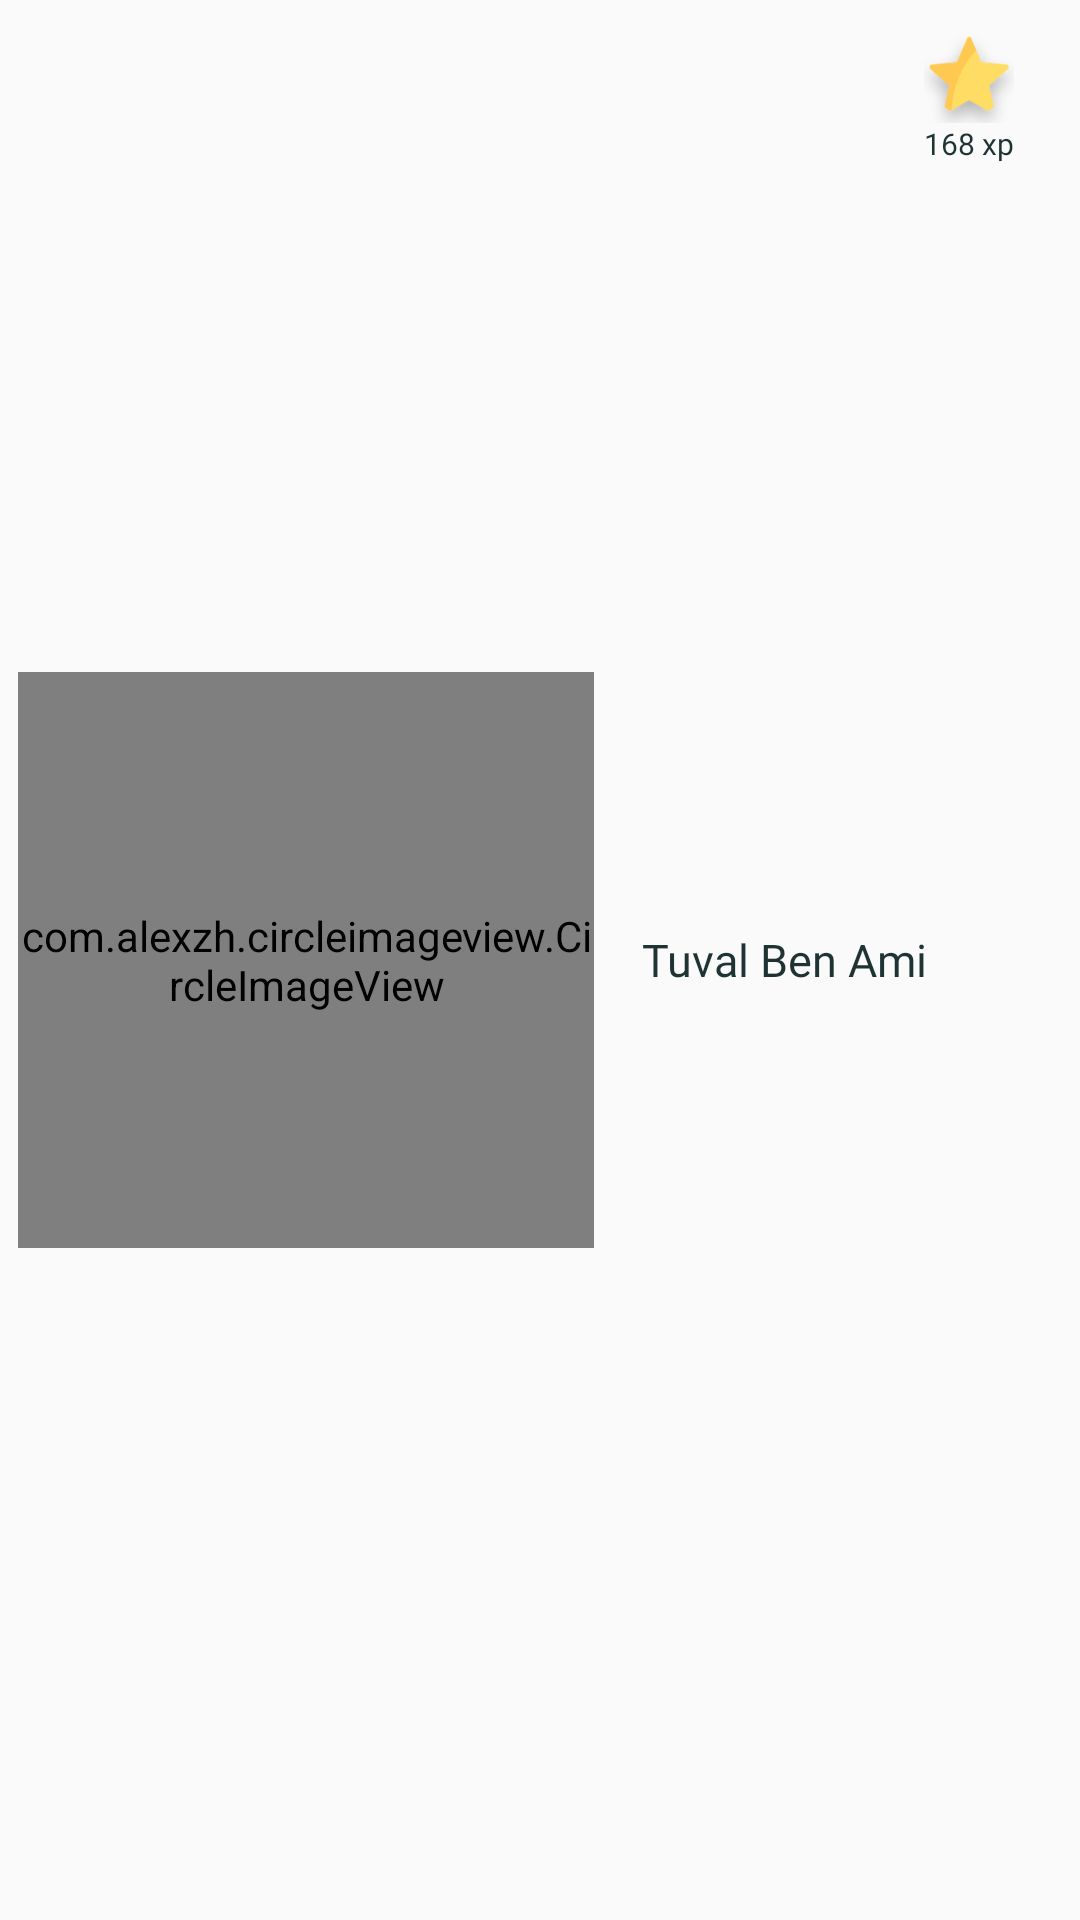

Screen size 1080 x 1920. Icon name, then its box in pixels as (left=x1, top=y1, right=x2, bottom=y2):
star: (left=929, top=36, right=1009, bottom=118)
